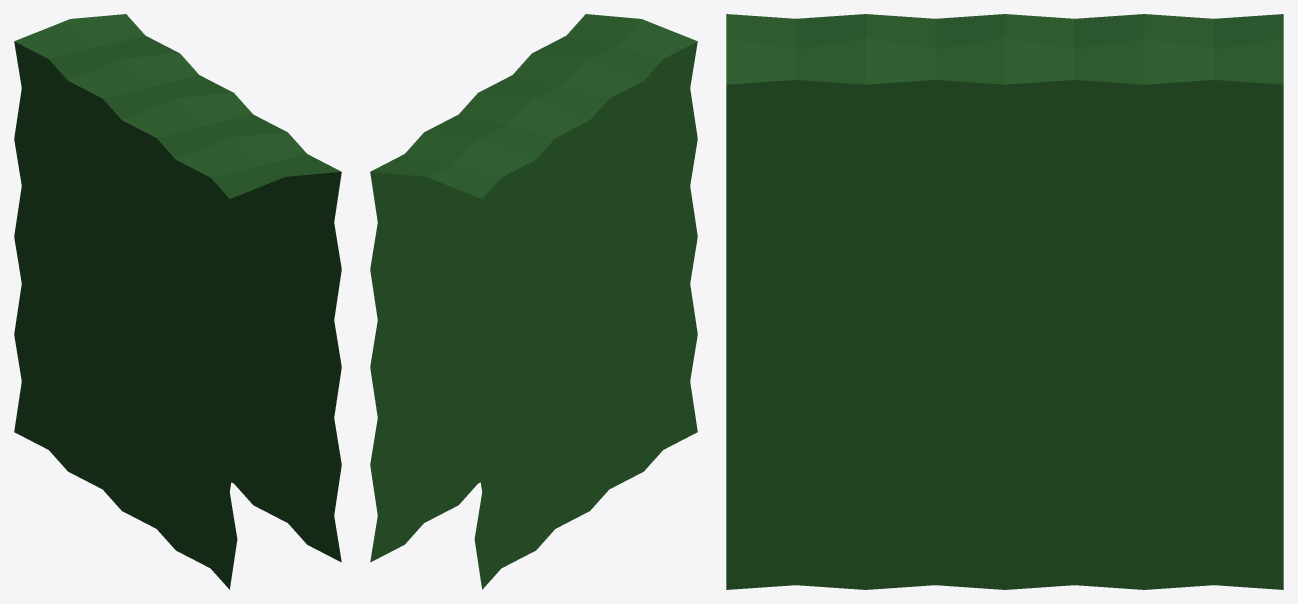
The model's file is bush.fbx.
The picture shows the model from 3 angles, left to right: view 1: azimuth 30°, elevation 25°; view 2: azimuth 150°, elevation 25°; view 3: azimuth 270°, elevation 25°; orthographic projection. The views are drawn at different scales.
Visible parts, largest first — view 1: Bush; view 2: Bush; view 3: Bush.
Boxes of the visible parts, left/top/right/bottom form: Bush: left=14, top=14, right=341, bottom=589; Bush: left=370, top=14, right=697, bottom=589; Bush: left=726, top=14, right=1283, bottom=589.
Size of the model in its own units: 120 by 409 by 400.
